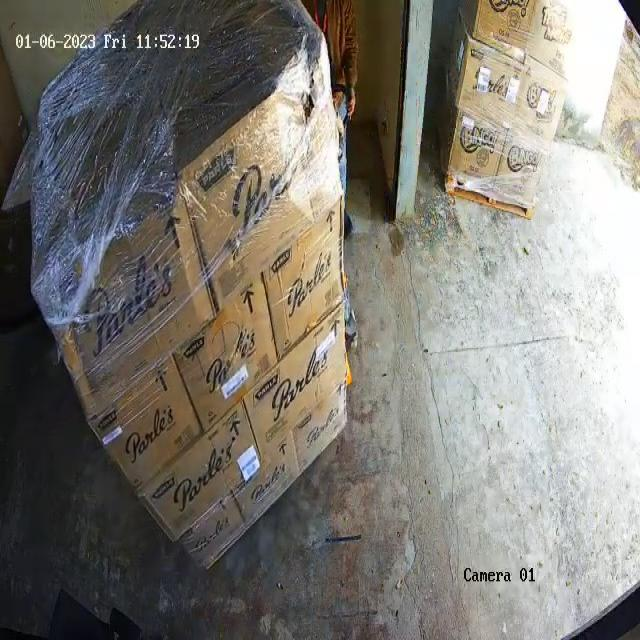squeeze: (268, 29, 340, 199)
